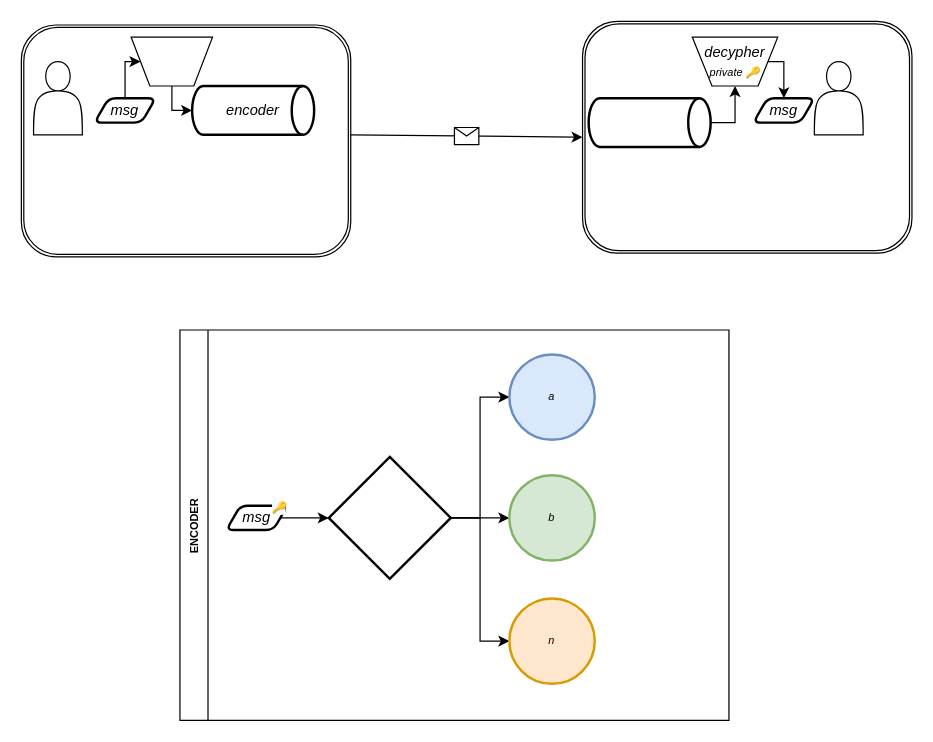
Some shapes in this 933 by 742 pixel diagram are drawn without their labels. The centre of each missing label's shape, as x and y in pixels:
cypher public 🔑: (x=171, y=61)
decoder: (x=649, y=122)
decoding strategy: (x=389, y=517)
